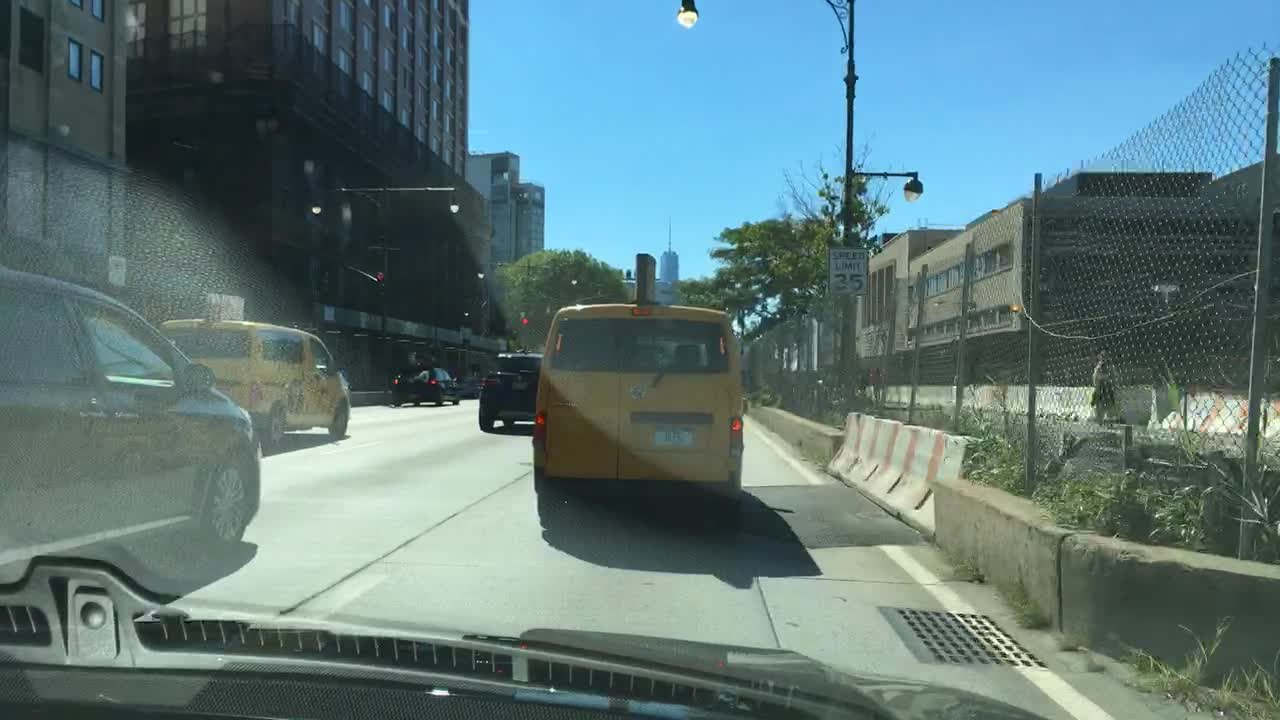car: (1, 261, 261, 582), (531, 251, 747, 517), (162, 317, 352, 446), (476, 351, 549, 429), (391, 362, 459, 407), (453, 374, 485, 398)
person: (1090, 350, 1126, 419), (867, 366, 881, 400)
traffic light: (373, 269, 385, 292), (516, 307, 530, 324)
traffic sign: (827, 247, 867, 296), (205, 294, 243, 318), (107, 254, 128, 284)
